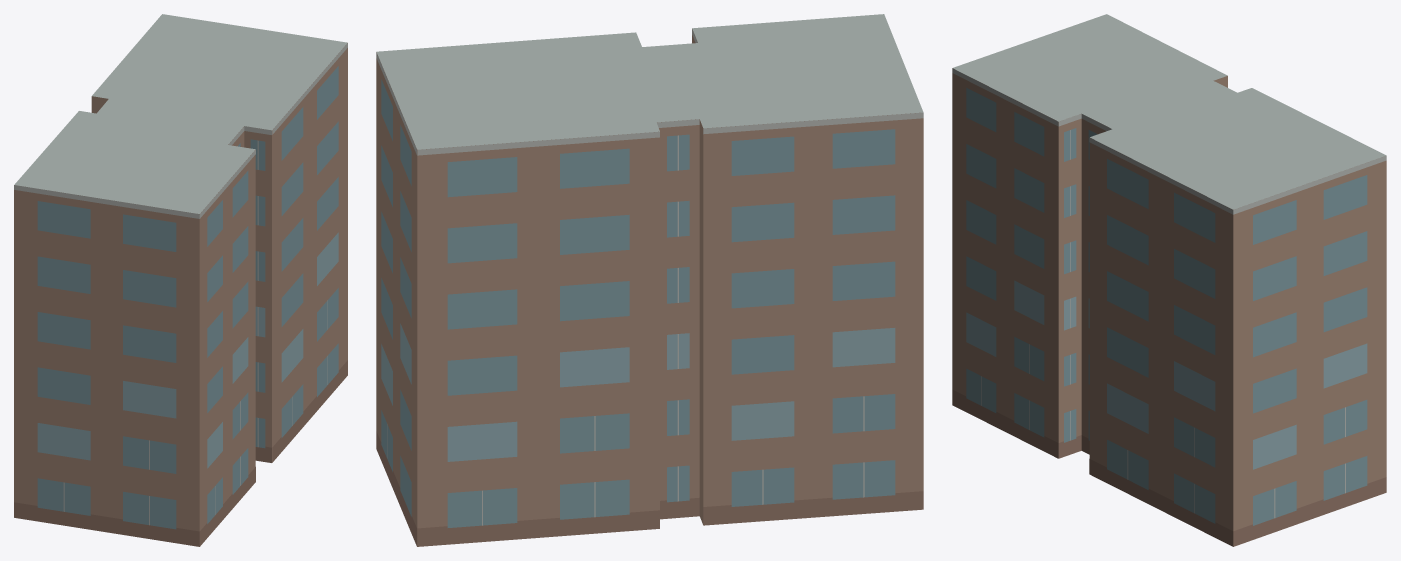
Rendered from survey-upis-32727217.glb.
3 views of the same model, side by side, from view 1: azimuth 30°, elevation 25°; view 2: azimuth 150°, elevation 25°; view 3: azimuth 270°, elevation 25° (orthographic). The views are drawn at different scales.
Visible parts, largest first — view 1: survey-upis-32727217.tmp; view 2: survey-upis-32727217.tmp; view 3: survey-upis-32727217.tmp.
Boxes of the visible parts, x1,y1,x2,y2 form: survey-upis-32727217.tmp: [14, 14, 347, 546]; survey-upis-32727217.tmp: [376, 14, 923, 546]; survey-upis-32727217.tmp: [952, 14, 1386, 546].
Bounding box in the file's own units: 20.81 × 16.7 × 19.51.
